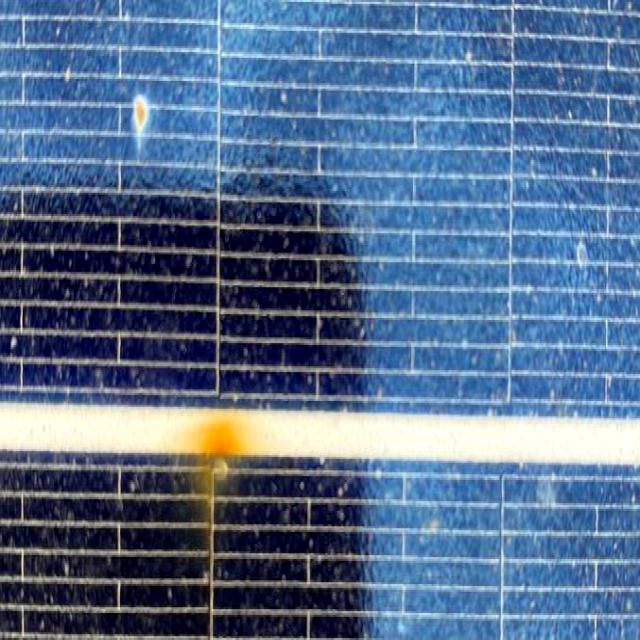shadow: (160, 405, 265, 572), (118, 100, 168, 154)
